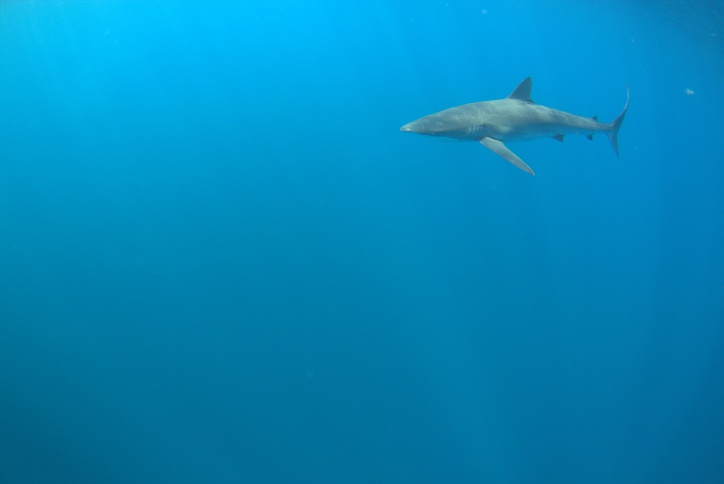Sedoso: (382, 67, 654, 183)
